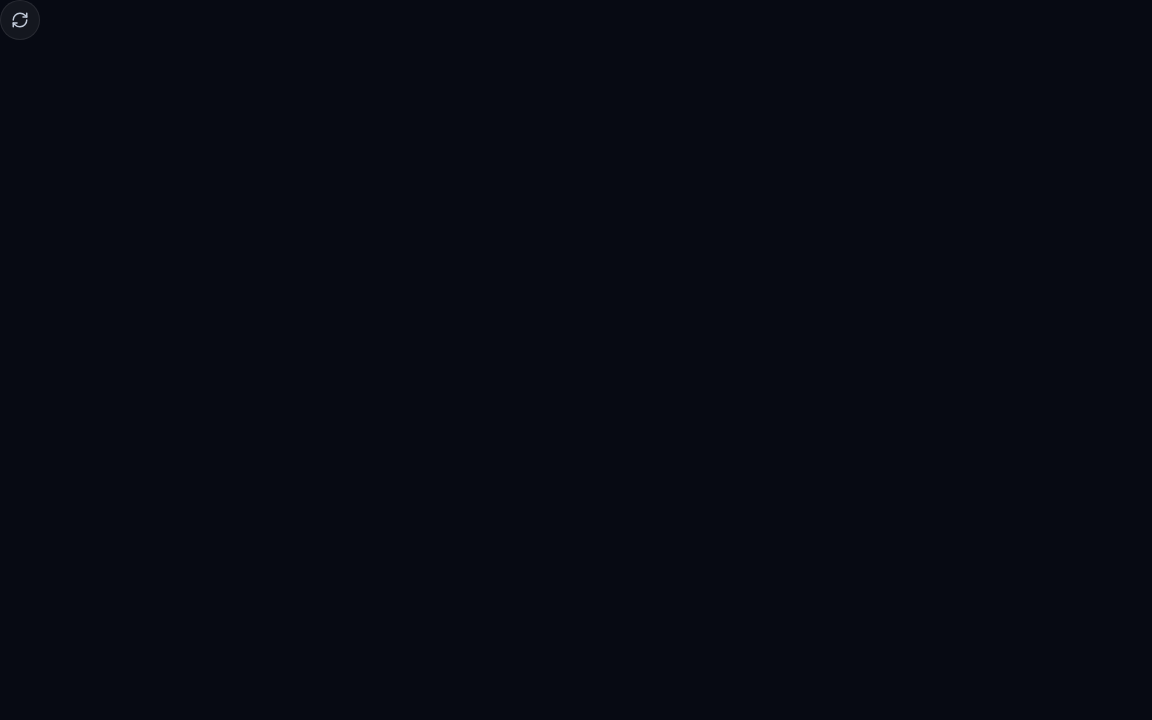
SyncIndicator › offers the sync as soon as a source answers
What coordinates should you click on to do the following:
click the button named "État de la synchronisation : Jamais synchronisé"
I would click on:
 (20, 20)
Its box is [0,0,40,40].
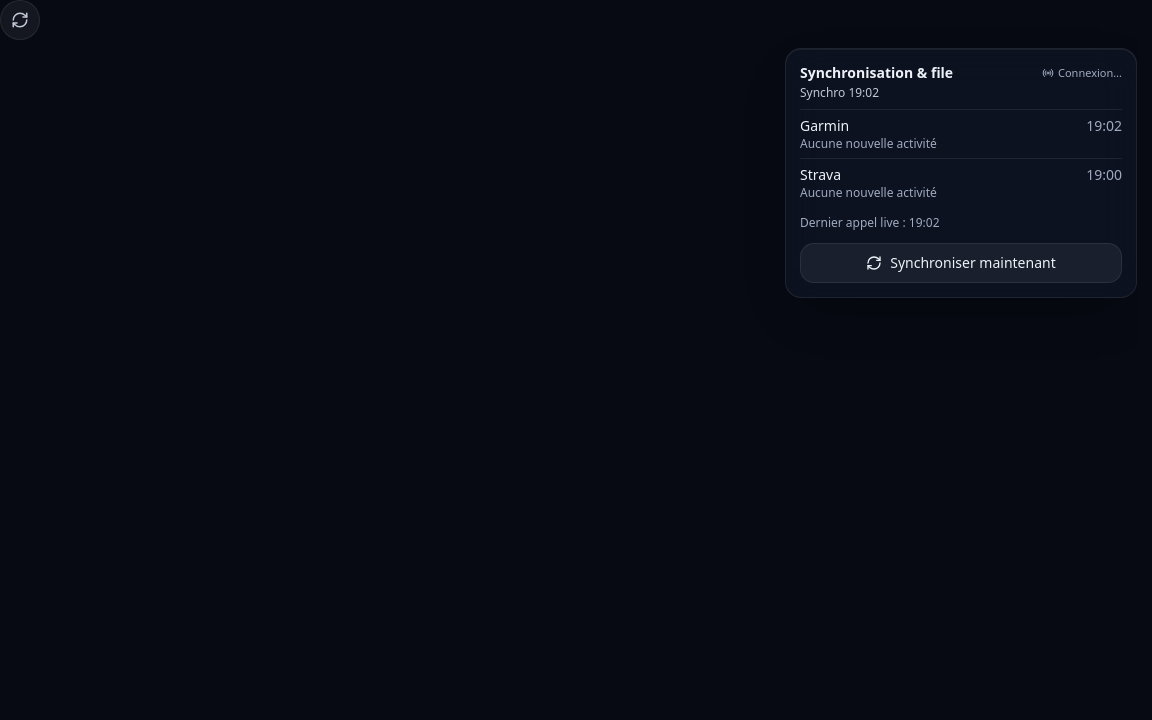
Check: the text "Synchroniser maintenant" is shown, box [800,243,1122,283]
